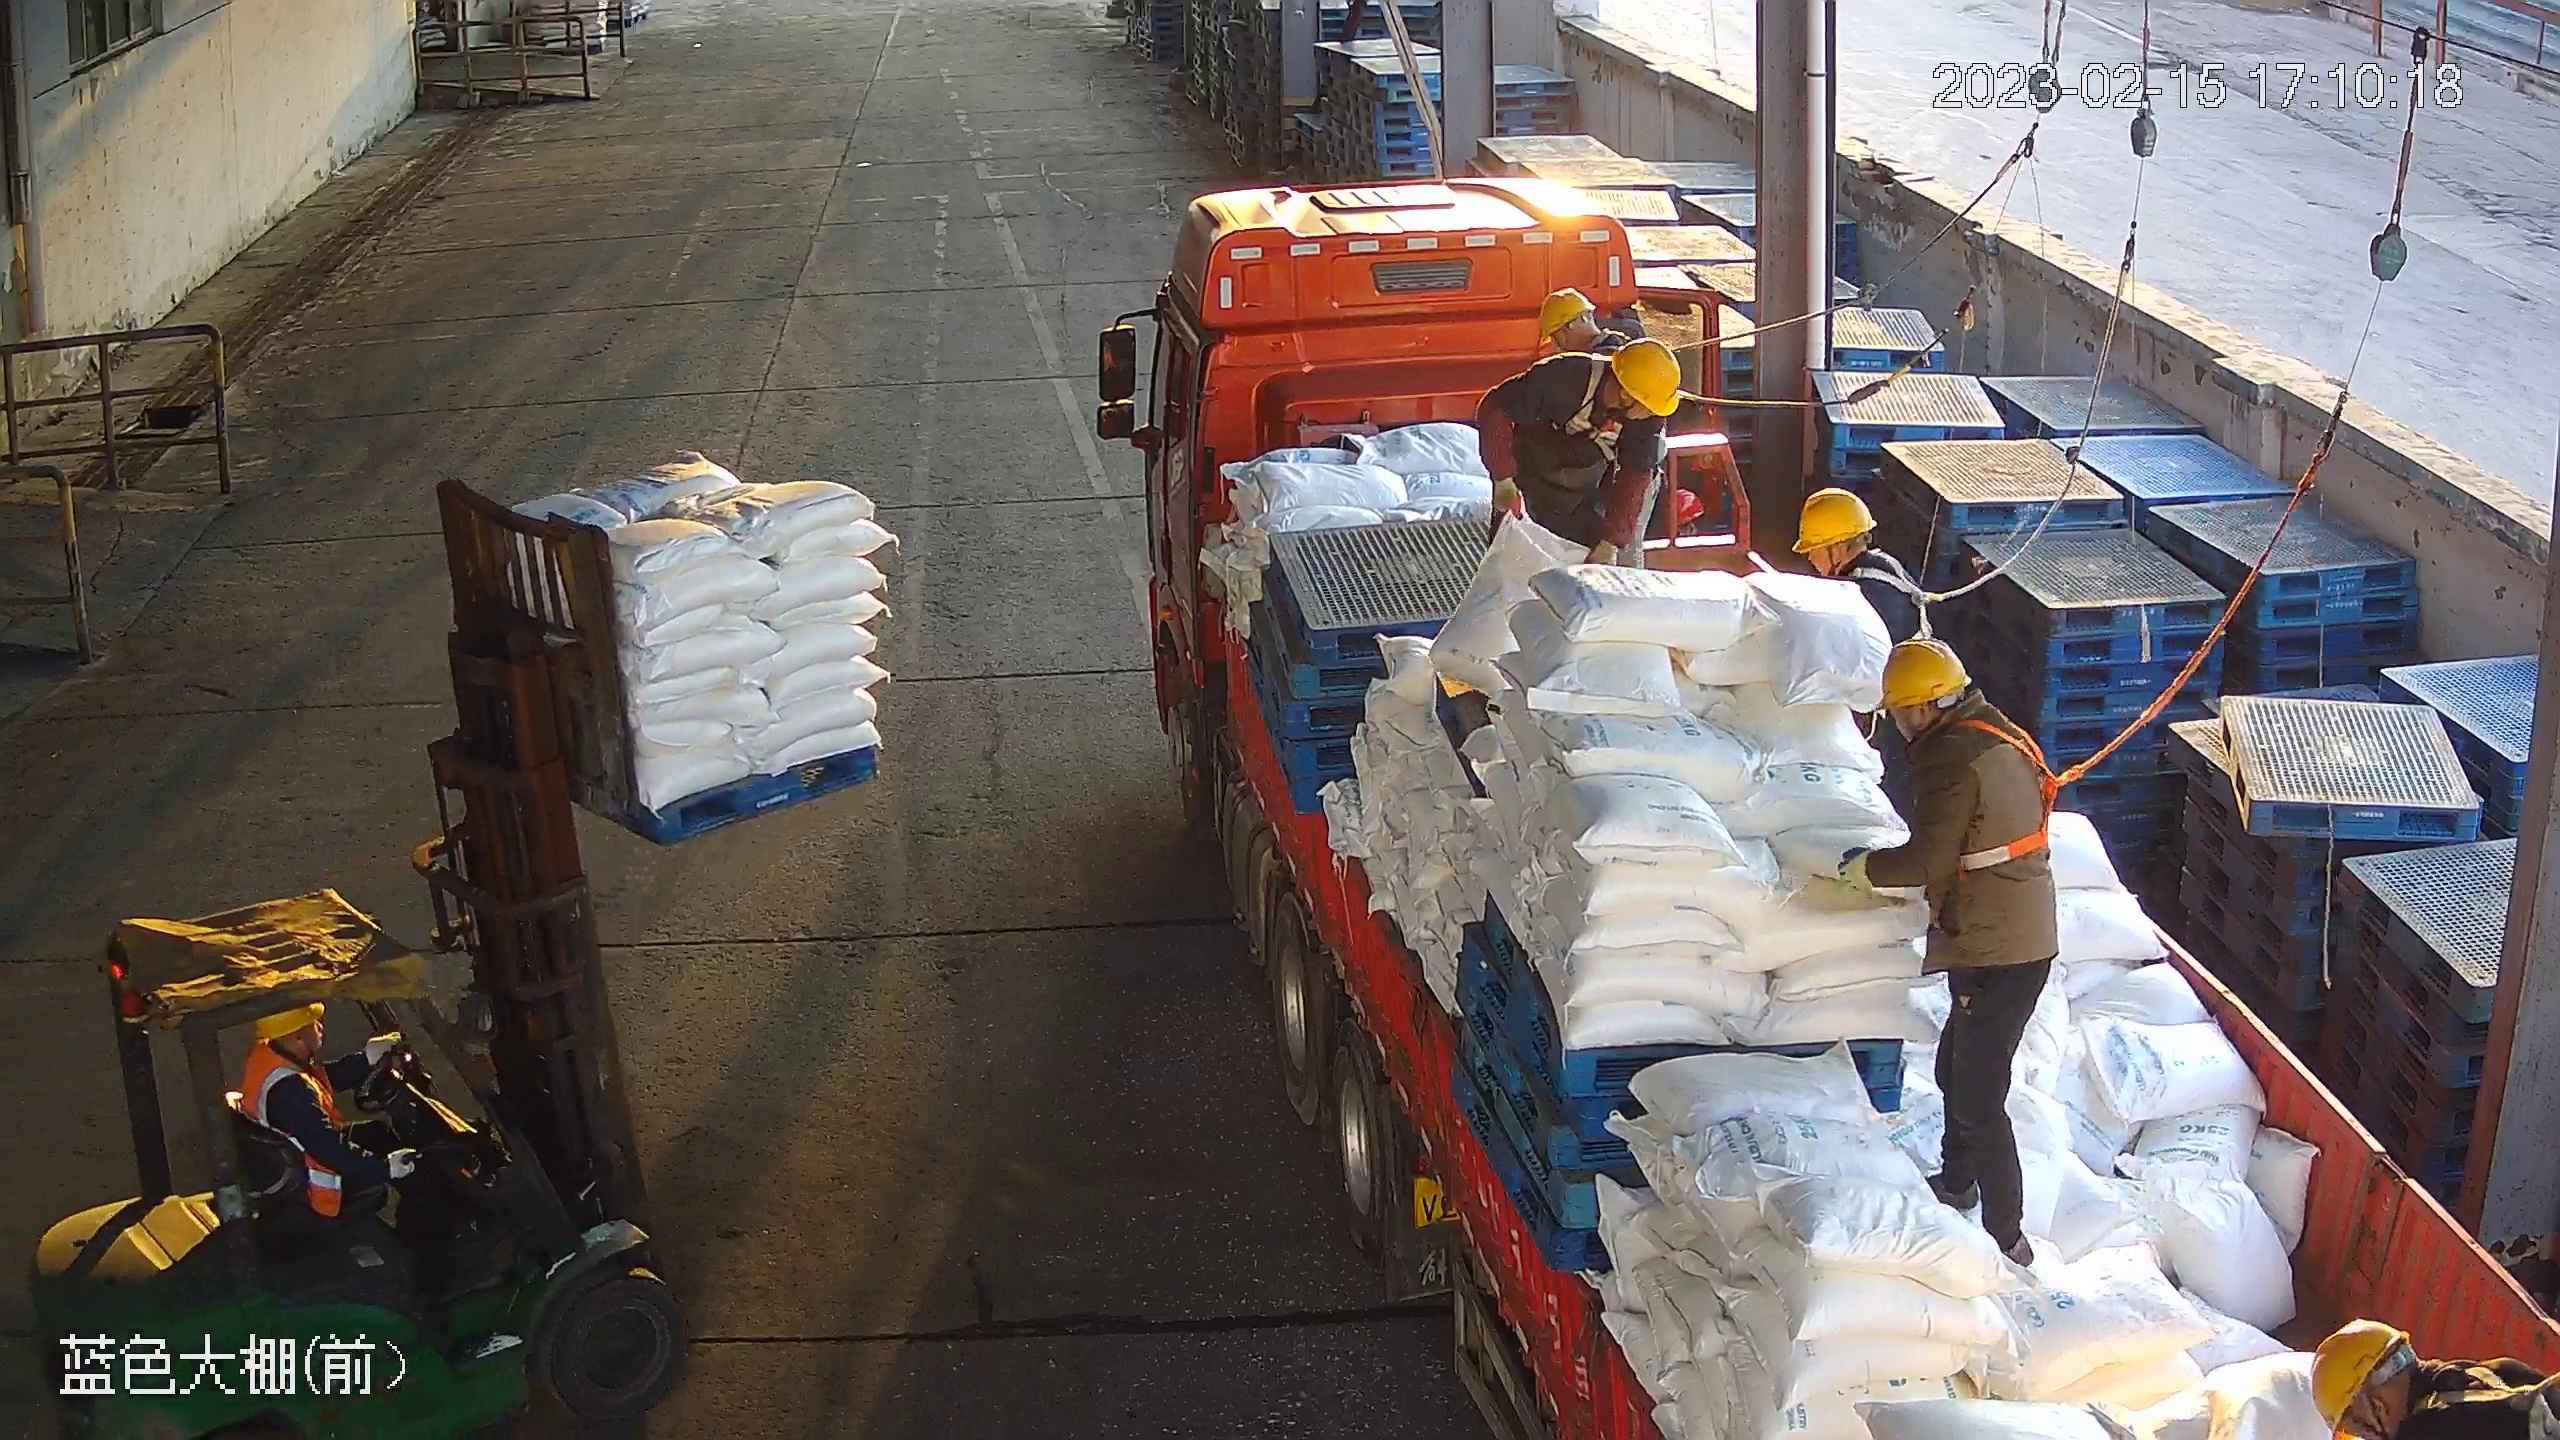belt: (1957, 698, 2056, 883), (1861, 537, 1939, 639), (1554, 349, 1622, 464)
head: (1851, 639, 2059, 839), (1535, 338, 1688, 459), (248, 1005, 377, 1138)
helmet: (241, 1005, 459, 1245), (2308, 1314, 2410, 1439), (1879, 637, 1976, 710), (1790, 489, 1873, 556), (1613, 340, 1681, 418), (1539, 290, 1595, 337)
people: (1842, 637, 2062, 1278), (1478, 339, 1687, 579)
truck: (1095, 178, 2560, 1440)
